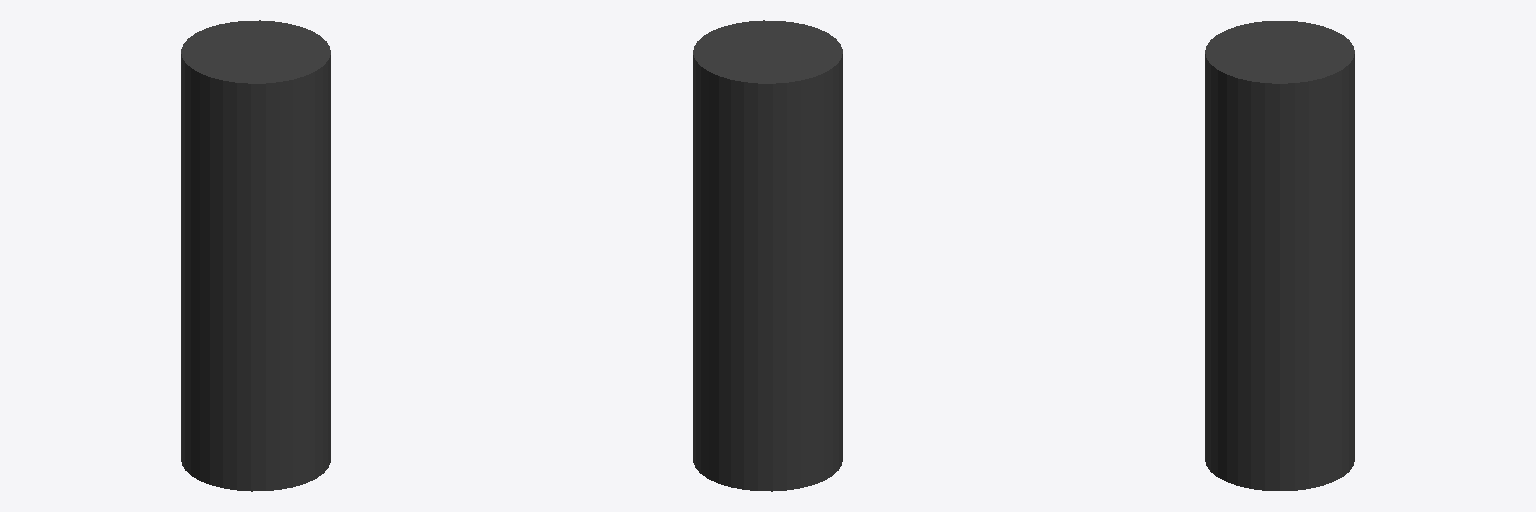
robot.urdf — box:
<?xml version='1.0' encoding='UTF-8'?>
<robot name="box">
  <link name="base_link">
    <inertial>
      <origin xyz="0.0 0.0 0.0" rpy="0.0 -0.0 0.0"/>
      <mass value="1.0"/>
      <inertia ixx="1.0" ixy="0.0" ixz="0.0" iyy="1.0" iyz="0.0" izz="1.0"/>
    </inertial>
    <visual name="base_link_visual">
      <geometry>
        <cylinder radius="0.5" length="3"/>
      </geometry>
      <material name="base_link_color">
        <color rgba="0.3 0.3 0.3 1"/>
      </material>
      <origin xyz="0 0 0" rpy="0 0 0"/>
    </visual>
    <collision name="base_link_collision">
      <geometry>
        <cylinder radius="0.5" length="3"/>
      </geometry>
      <origin xyz="0 0 0" rpy="0 0 0"/>
    </collision>
  </link>
</robot>

--- What the picture shows (computed from the rendered views, not written in the file) ---
3 views of the same robot in one strip: view 1: azimuth 30°, elevation 25°; view 2: azimuth 150°, elevation 25°; view 3: azimuth 270°, elevation 25° (orthographic).
Robot: box — 1 links, 0 joints (none); root link base_link; default pose: all joints at 0.
Visible links, largest first — view 1: base_link; view 2: base_link; view 3: base_link.
Boxes of the visible links, x1,y1,x2,y2 form: base_link: (181,20,330,491); base_link: (693,20,842,491); base_link: (1205,21,1354,490).
Bounding box of the posed robot: 1 × 1 × 3 m (x, y, z).
Geometry: primitives only (box / cylinder / sphere), no mesh files.